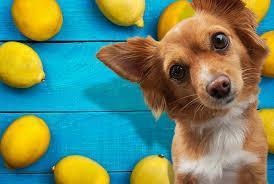lemon: (0, 115, 51, 170), (10, 0, 64, 41), (0, 42, 45, 88), (51, 154, 109, 184), (156, 0, 192, 41), (95, 0, 145, 28), (130, 154, 174, 184), (256, 108, 274, 154), (259, 30, 274, 77), (240, 0, 270, 23)
